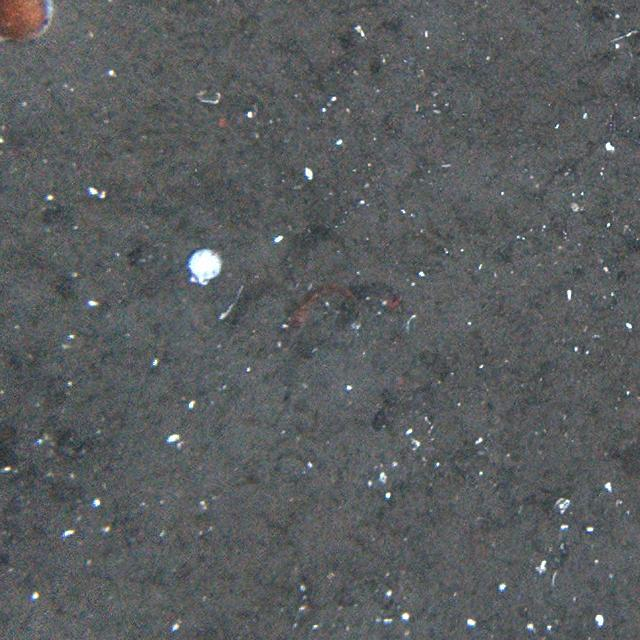roundfish: (275, 285, 367, 341)
